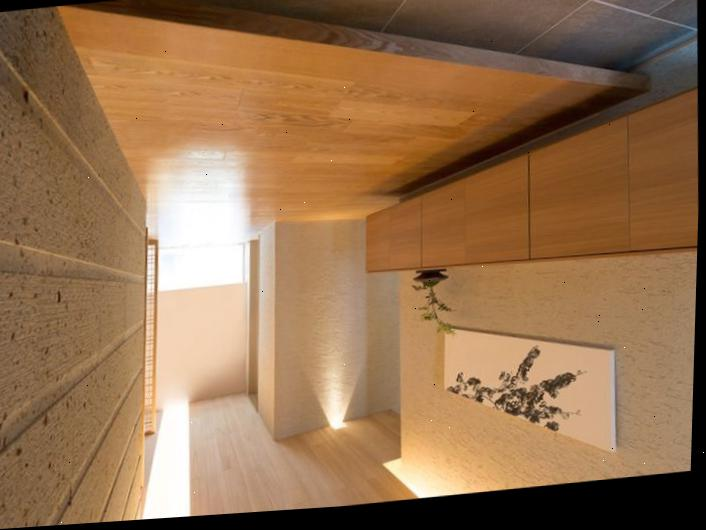floor: (181, 0, 697, 72)
safe: (55, 6, 651, 249)
